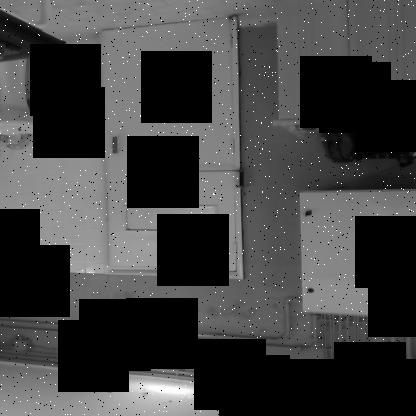Porte: (95, 15, 248, 279)
